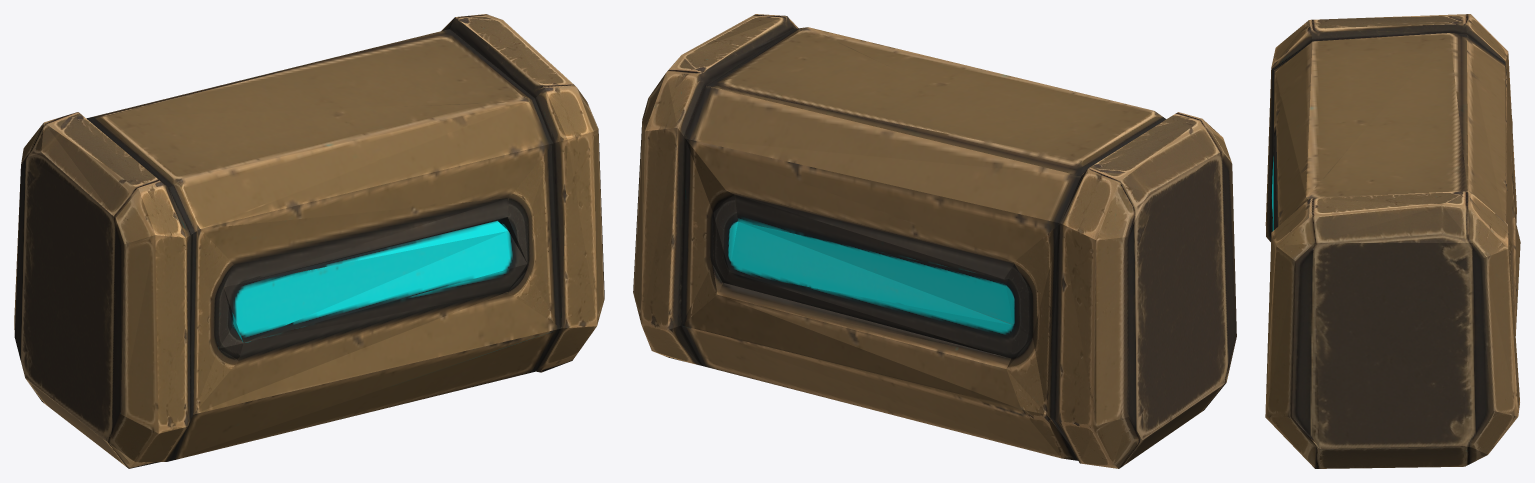
File: polzunok.glb
The picture shows the model from 3 angles, left to right: view 1: azimuth 30°, elevation 25°; view 2: azimuth 150°, elevation 25°; view 3: azimuth 270°, elevation 25°; orthographic projection. The views are drawn at different scales.
Parts seen in each view (by area): view 1: polzunok; view 2: polzunok; view 3: polzunok.
Part boxes in pixels (x1=…): polzunok: x1=14, y1=14, x2=604, y2=468; polzunok: x1=633, y1=14, x2=1236, y2=468; polzunok: x1=1265, y1=14, x2=1520, y2=468.
Size of the model in its own units: 0.12 by 0.07 by 0.06.
Materials: 1 (1 with a texture image).
